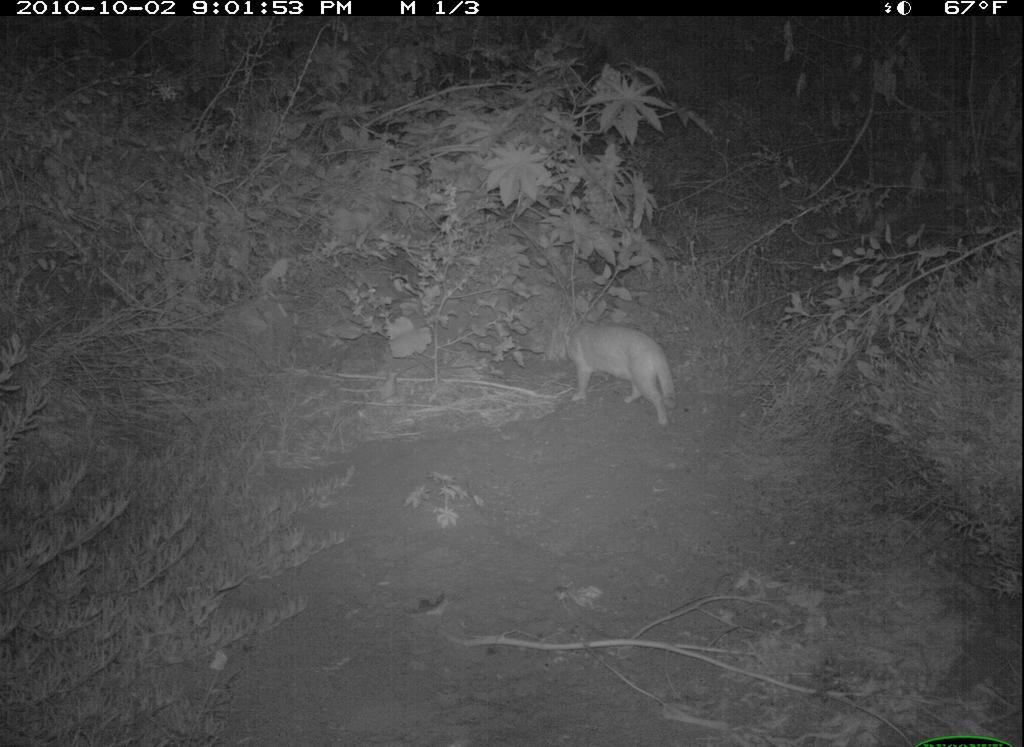cat: (528, 308, 693, 438)
